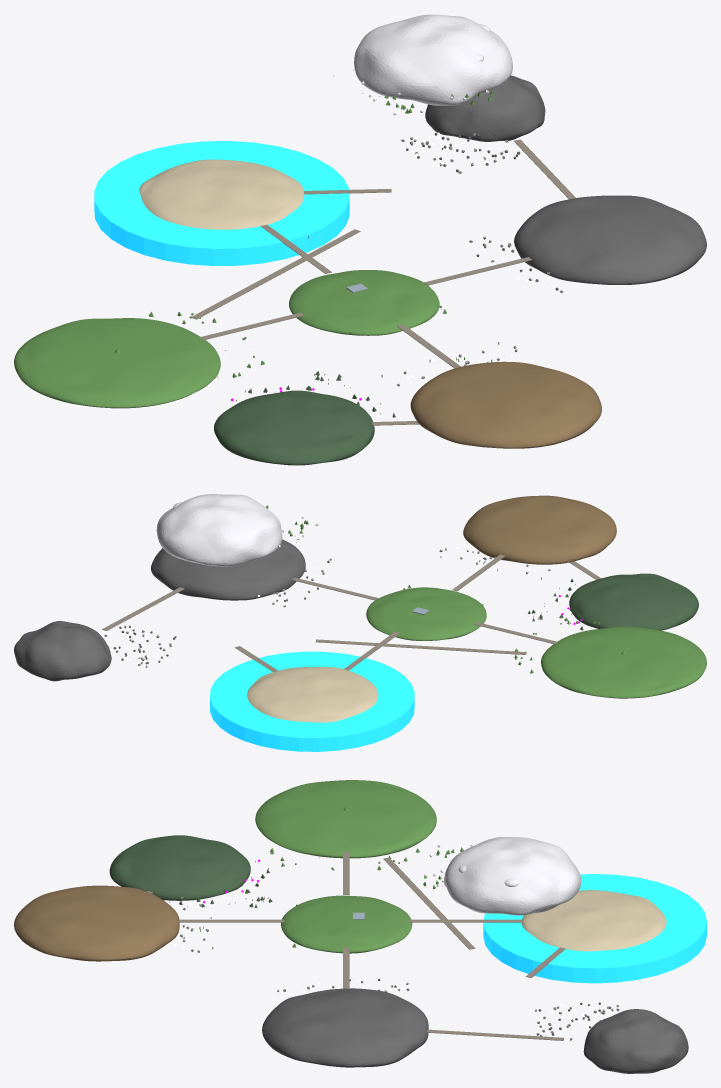
File: All_Islands.fbx
3 renders of one model, top to bottom at view 1: azimuth 30°, elevation 25°; view 2: azimuth 150°, elevation 25°; view 3: azimuth 270°, elevation 25°, orthographic. The views are drawn at different scales.
Parts seen in each view (by area): view 1: WATER_WaterCaves, TERRAIN_NaturePlains, TERRAIN_FireForest, TERRAIN_EarthDesert, TERRAIN_AirPeaks, TERRAIN_ShadowRuins, TERRAIN_WaterCaves, TERRAIN_StarterTown, TERRAIN_VolcanoIsle, BRIDGE_NaturePlains_to_AirPeaks; view 2: WATER_WaterCaves, TERRAIN_NaturePlains, TERRAIN_EarthDesert, TERRAIN_AirPeaks, TERRAIN_ShadowRuins, TERRAIN_WaterCaves, TERRAIN_FireForest, TERRAIN_StarterTown, TERRAIN_VolcanoIsle, BRIDGE_NaturePlains_to_AirPeaks; view 3: TERRAIN_NaturePlains, WATER_WaterCaves, TERRAIN_FireForest, TERRAIN_EarthDesert, TERRAIN_AirPeaks, TERRAIN_ShadowRuins, TERRAIN_WaterCaves, TERRAIN_StarterTown, TERRAIN_VolcanoIsle, BRIDGE_NaturePlains_to_AirPeaks, BRIDGE_FireForest_to_VolcanoIsle.
Boxes of the visible parts, box(x1,y1,x2,y2) form: WATER_WaterCaves: box(94, 141, 349, 265); TERRAIN_NaturePlains: box(14, 318, 220, 408); TERRAIN_FireForest: box(514, 195, 706, 284); TERRAIN_EarthDesert: box(410, 361, 601, 448); TERRAIN_AirPeaks: box(354, 14, 512, 105); TERRAIN_ShadowRuins: box(214, 390, 374, 465); TERRAIN_WaterCaves: box(139, 159, 304, 229); TERRAIN_StarterTown: box(289, 270, 439, 335); TERRAIN_VolcanoIsle: box(425, 75, 545, 141); BRIDGE_NaturePlains_to_AirPeaks: box(191, 229, 360, 319); WATER_WaterCaves: box(210, 651, 414, 751); TERRAIN_NaturePlains: box(541, 626, 706, 698); TERRAIN_EarthDesert: box(463, 495, 616, 564); TERRAIN_AirPeaks: box(156, 494, 282, 566); TERRAIN_ShadowRuins: box(569, 573, 698, 630); TERRAIN_WaterCaves: box(247, 667, 378, 722); TERRAIN_FireForest: box(151, 539, 305, 600); TERRAIN_StarterTown: box(366, 587, 486, 640); TERRAIN_VolcanoIsle: box(14, 621, 111, 681); BRIDGE_NaturePlains_to_AirPeaks: box(315, 639, 526, 654); TERRAIN_NaturePlains: box(255, 780, 436, 858); WATER_WaterCaves: box(483, 874, 706, 983); TERRAIN_FireForest: box(262, 988, 428, 1067); TERRAIN_EarthDesert: box(14, 885, 179, 961); TERRAIN_AirPeaks: box(444, 837, 581, 915); TERRAIN_ShadowRuins: box(109, 835, 250, 900); TERRAIN_WaterCaves: box(521, 890, 666, 951); TERRAIN_StarterTown: box(281, 895, 412, 953); TERRAIN_VolcanoIsle: box(583, 1009, 688, 1073); BRIDGE_NaturePlains_to_AirPeaks: box(383, 857, 475, 949); BRIDGE_FireForest_to_VolcanoIsle: box(427, 1029, 564, 1040).
Bounding box in the file's own units: 823 × 223 × 836.
